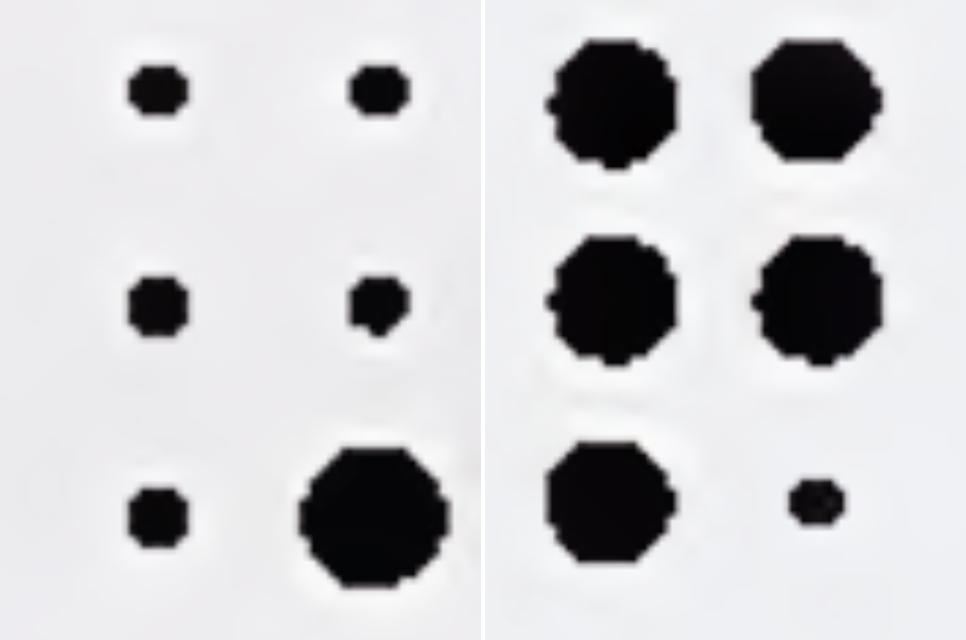Q: (550, 39, 886, 562)
capital: (127, 60, 448, 594)
